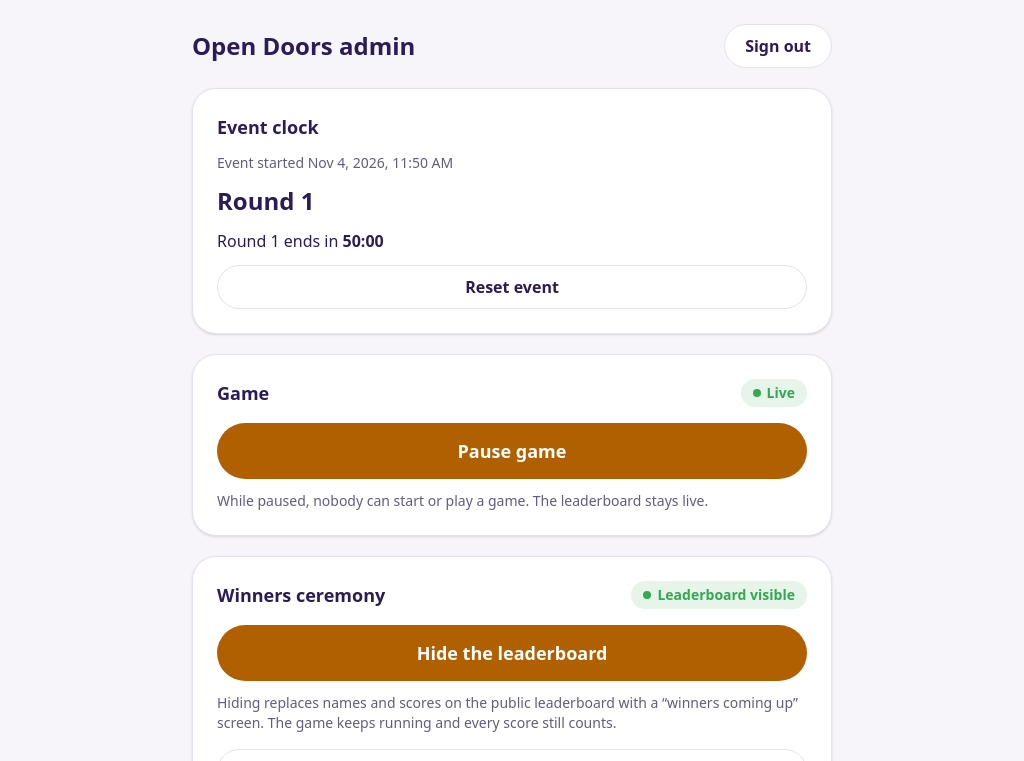
Test case: Admin dashboard › keeps the reset button disabled for lowercase reset and enables it for RESET
Click the button "Reset event" at coordinates (512, 287), box [217,265,807,309]
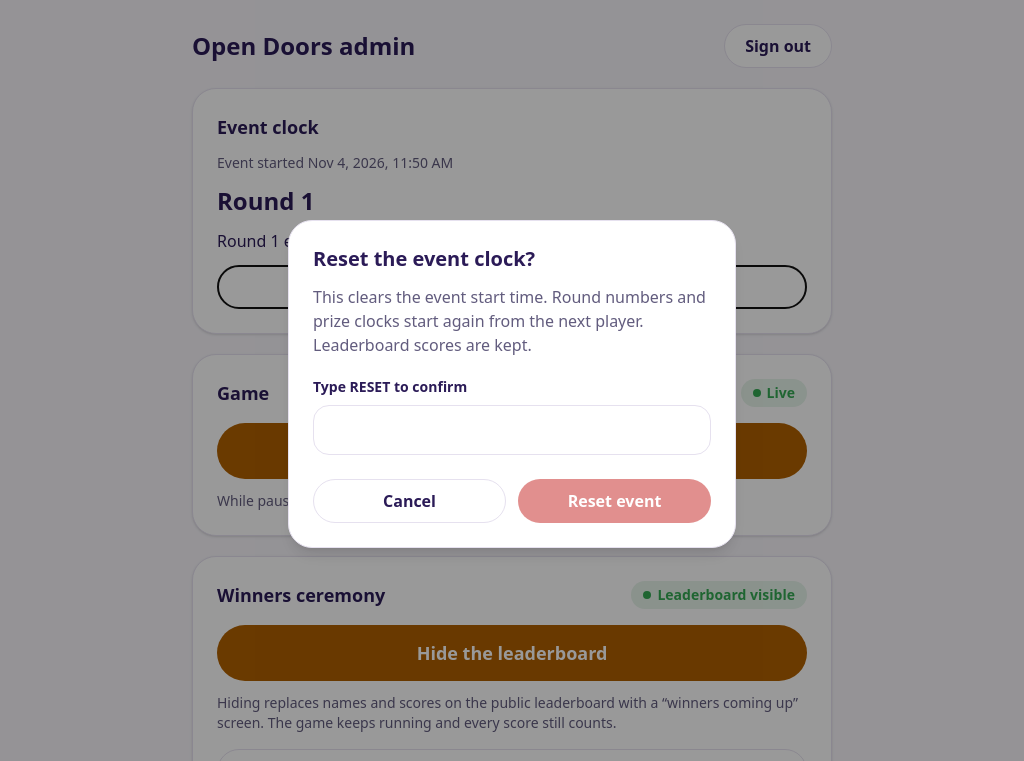
Type "reset" into the field labelled "Type RESET to confirm" at coordinates (512, 430), box [313,405,711,455]
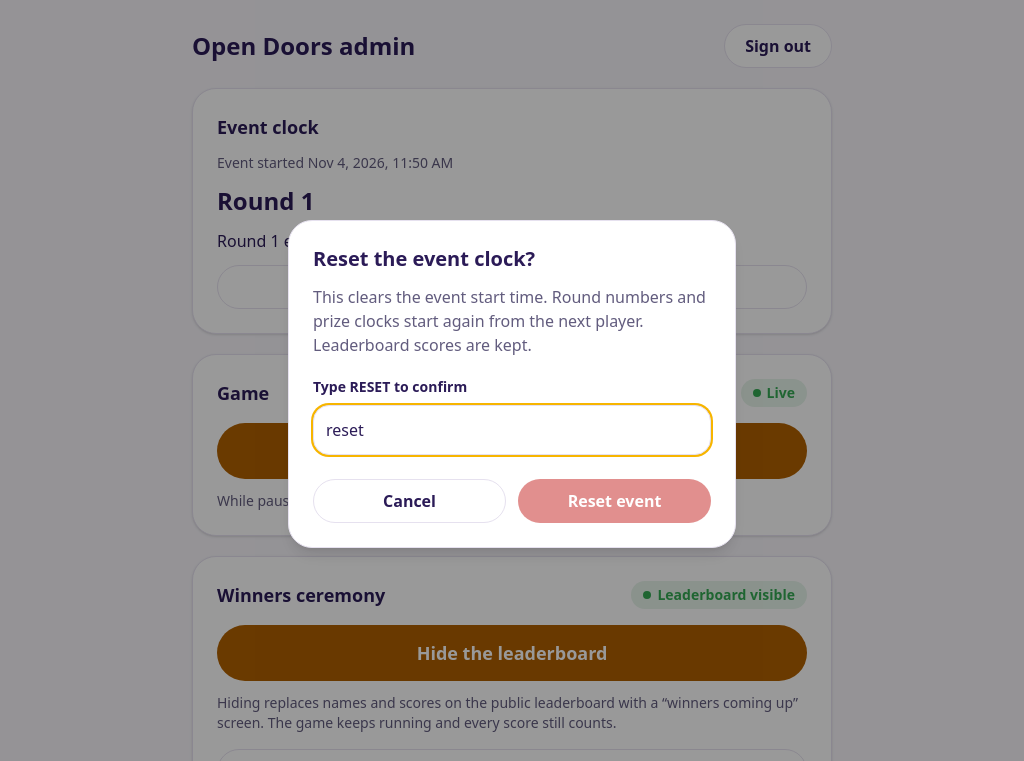
expect the button "Reset event" is disabled: met, box [518,479,711,523]
Replace the text in the field labelled "Type RESET to confirm" with "RESET" at coordinates (512, 430), box [313,405,711,455]
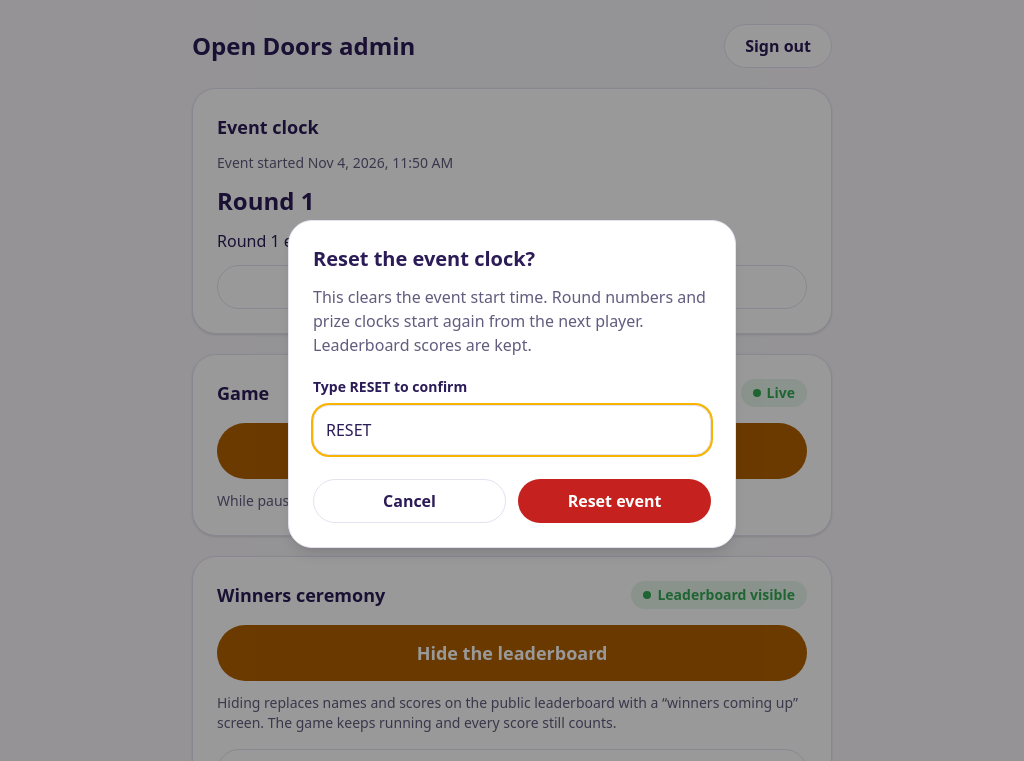
expect the button "Reset event" is enabled: met, box [518,479,711,523]
